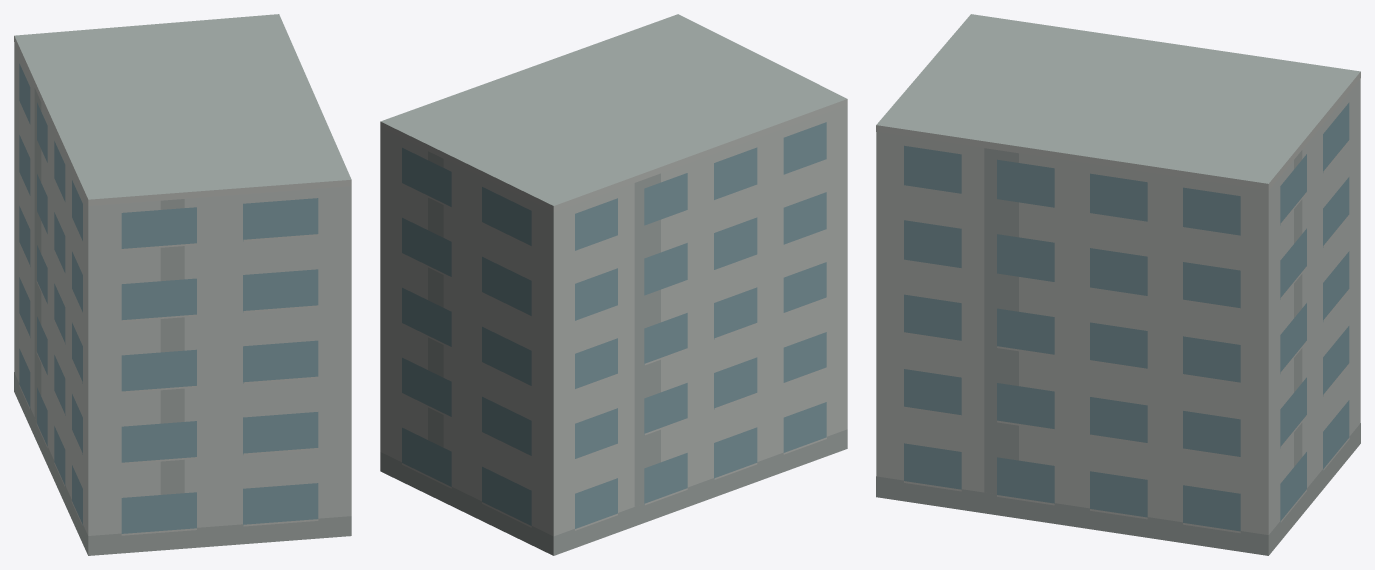
The model's file is survey-upis-32885149.glb.
3 views of the same model, side by side, from view 1: azimuth 30°, elevation 25°; view 2: azimuth 150°, elevation 25°; view 3: azimuth 270°, elevation 25° (orthographic). The views are drawn at different scales.
Parts seen in each view (by area): view 1: survey-upis-32885149.tmp; view 2: survey-upis-32885149.tmp; view 3: survey-upis-32885149.tmp.
Boxes of the visible parts, x1=… form: survey-upis-32885149.tmp: x1=14, y1=14, x2=351, y2=555; survey-upis-32885149.tmp: x1=380, y1=14, x2=847, y2=555; survey-upis-32885149.tmp: x1=876, y1=14, x2=1360, y2=555.
Size of the model in its own units: 13.03 by 13.3 by 15.71.
